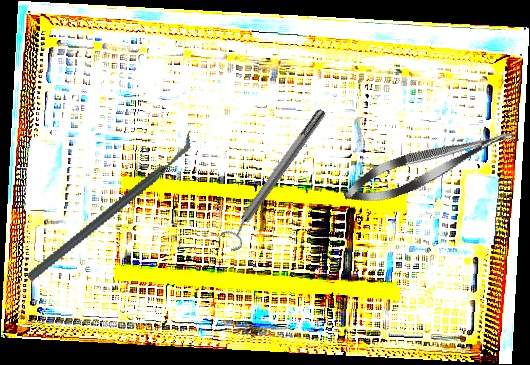Chopper: (1, 129, 220, 284)
Fixation Ring: (214, 103, 335, 255)
Micro Scissor: (338, 116, 523, 214)
